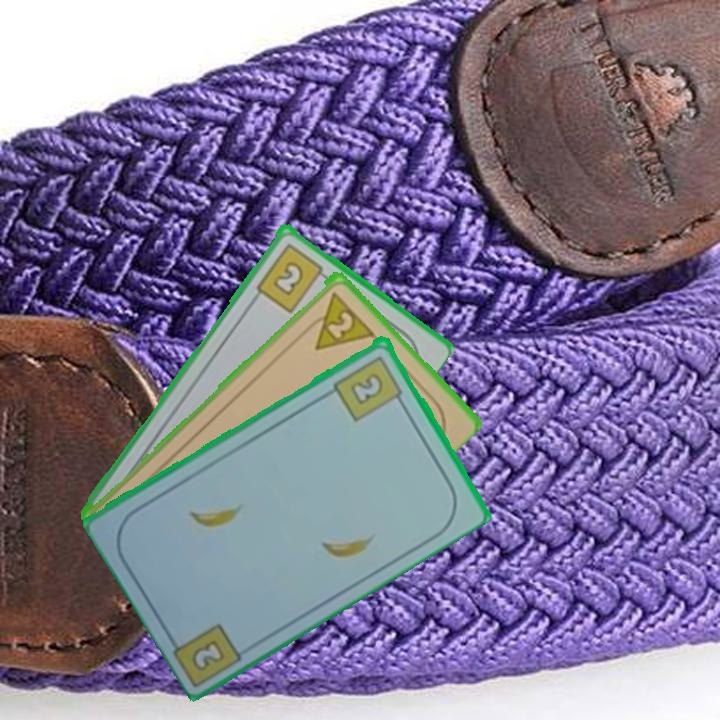2b: (252, 239, 332, 315), (330, 351, 407, 424), (188, 635, 229, 674)
2p: (299, 288, 376, 353)
